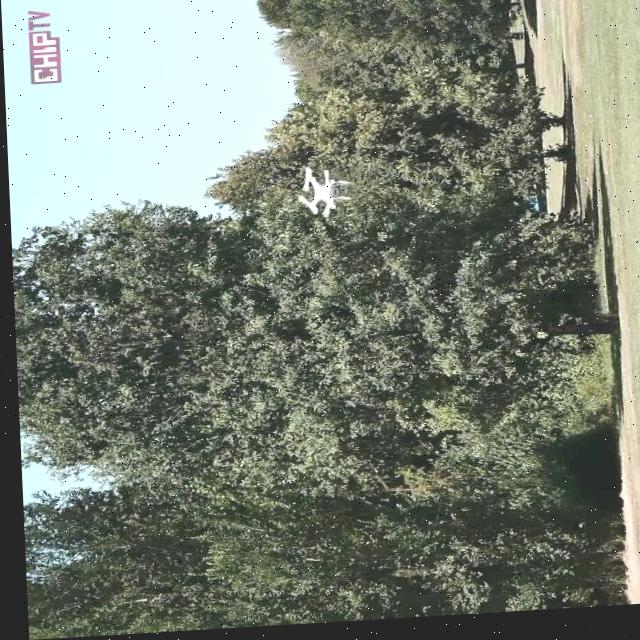drone: (290, 169, 348, 226)
